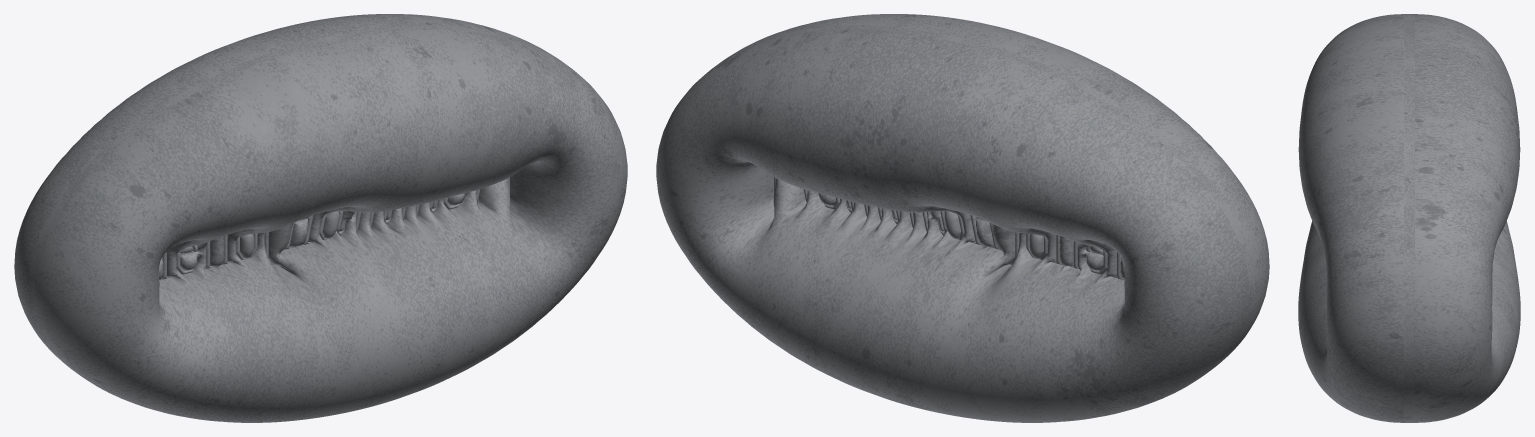
Rendered from hammer.gltf.
The picture shows the model from 3 angles, left to right: view 1: azimuth 30°, elevation 25°; view 2: azimuth 150°, elevation 25°; view 3: azimuth 270°, elevation 25°; orthographic projection. The views are drawn at different scales.
Bounding box in the file's own units: 0.2699 × 0.1582 × 0.0996.
1 material, 1 textured.
